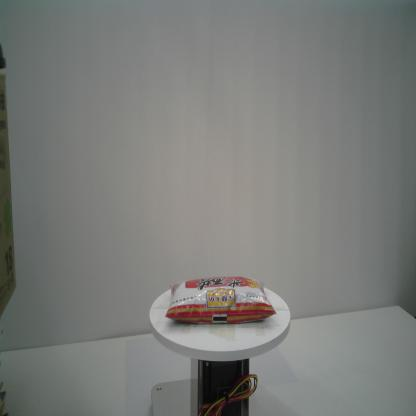Seasoner: (164, 275, 277, 326)
